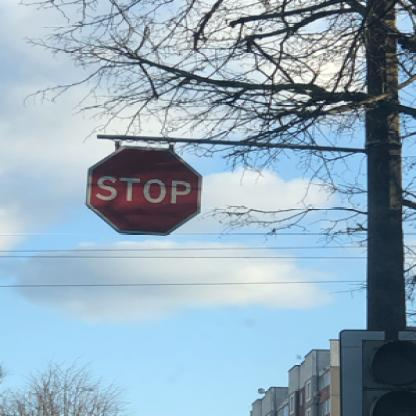Stop: (88, 146, 206, 234)
